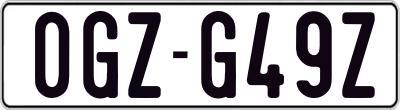0: (34, 11, 69, 103)
4: (247, 10, 290, 102)
9: (296, 10, 334, 101)
G: (200, 10, 240, 103), (81, 11, 116, 103)
Z: (126, 10, 163, 102), (340, 9, 376, 99)
